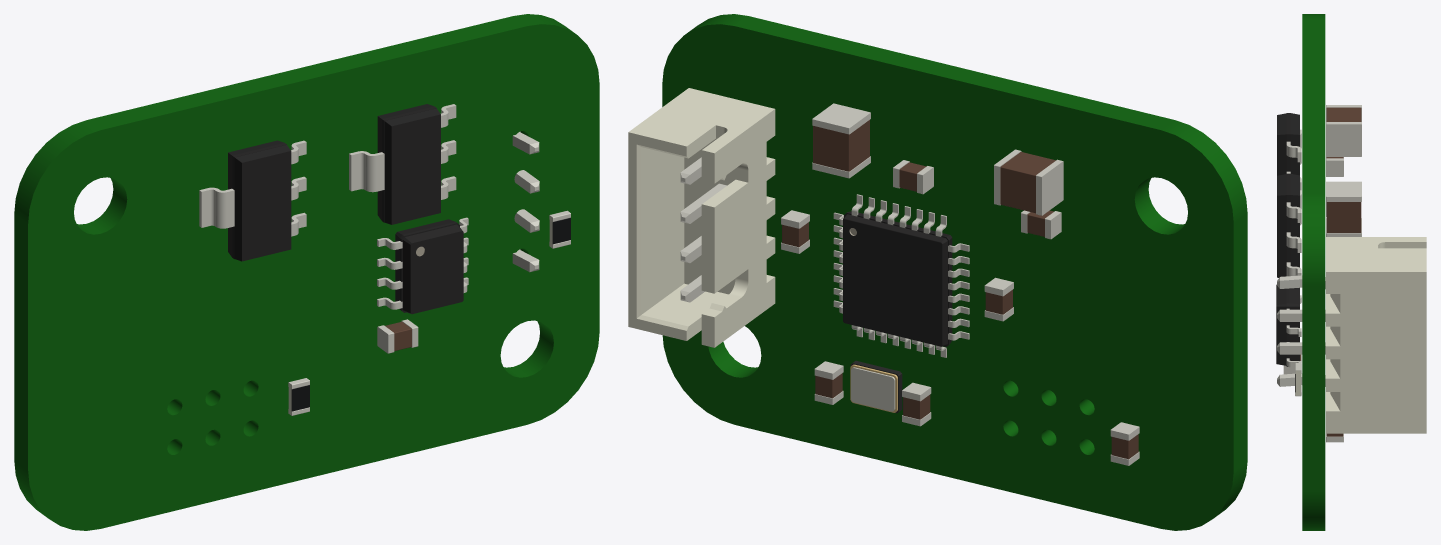
File: EMBEDDED BOARD.fbx
3 views of the same model, side by side, from view 1: azimuth 30°, elevation 25°; view 2: azimuth 150°, elevation 25°; view 3: azimuth 270°, elevation 25° (orthographic). The views are drawn at different scales.
Parts seen in each view (by area): view 1: COMPOUND.step-1, SOLID-2.step-1 (×2), SOLID-4.step-1, SOLID-1.step-1, SOLID-0.step-1 (×2), SOLID.step-1; view 2: COMPOUND.step-1, SOLID-1.step-1, SOLID-3.step-1, SOLID.step-1 (×7), SOLID-6.step-1 (×2), SOLID-5.step-1; view 3: SOLID-1.step-1, COMPOUND.step-1, SOLID-2.step-1 (×2), SOLID-6.step-1 (×2), SOLID-4.step-1, SOLID.step-1, SOLID-0.step-1.
Boxes of the visible parts, left/top/right/bottom form: COMPOUND.step-1: left=14, top=14, right=599, bottom=530; SOLID-2.step-1 (×2): left=199, top=104, right=456, bottom=261; SOLID-4.step-1: left=377, top=217, right=468, bottom=314; SOLID-1.step-1: left=512, top=131, right=539, bottom=272; SOLID-0.step-1 (×2): left=288, top=210, right=570, bottom=415; SOLID.step-1: left=377, top=319, right=418, bottom=353; COMPOUND.step-1: left=662, top=14, right=1247, bottom=530; SOLID-1.step-1: left=628, top=88, right=775, bottom=347; SOLID-3.step-1: left=833, top=194, right=969, bottom=357; SOLID.step-1 (×7): left=781, top=160, right=1139, bottom=465; SOLID-6.step-1 (×2): left=812, top=103, right=1063, bottom=215; SOLID-5.step-1: left=850, top=360, right=902, bottom=413; SOLID-1.step-1: left=1277, top=237, right=1426, bottom=433; COMPOUND.step-1: left=1302, top=14, right=1325, bottom=530; SOLID-2.step-1 (×2): left=1277, top=113, right=1301, bottom=277; SOLID-6.step-1 (×2): left=1326, top=105, right=1361, bottom=236; SOLID-4.step-1: left=1276, top=284, right=1301, bottom=367; SOLID.step-1: left=1326, top=157, right=1343, bottom=176; SOLID-0.step-1: left=1295, top=363, right=1301, bottom=396.
Bounding box in the file's own units: 38.1 × 25.4 × 10.45.
